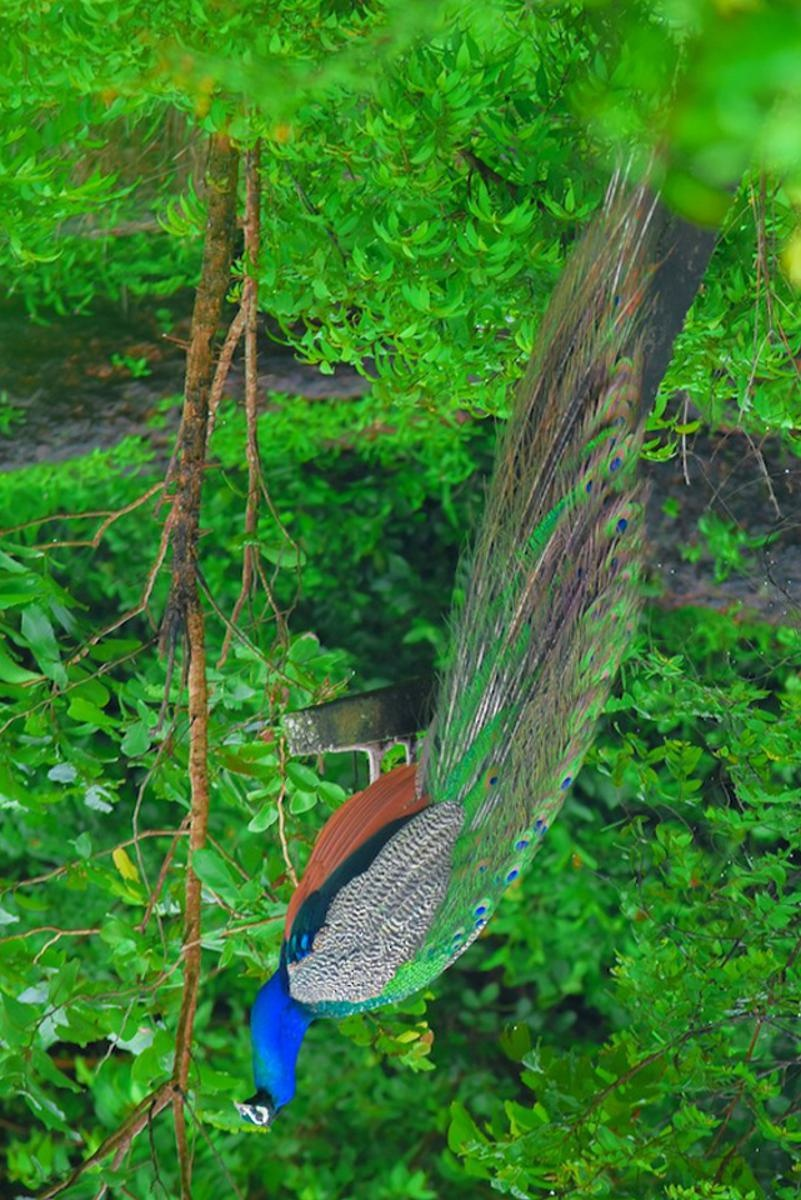peacock: (198, 34, 788, 1159)
